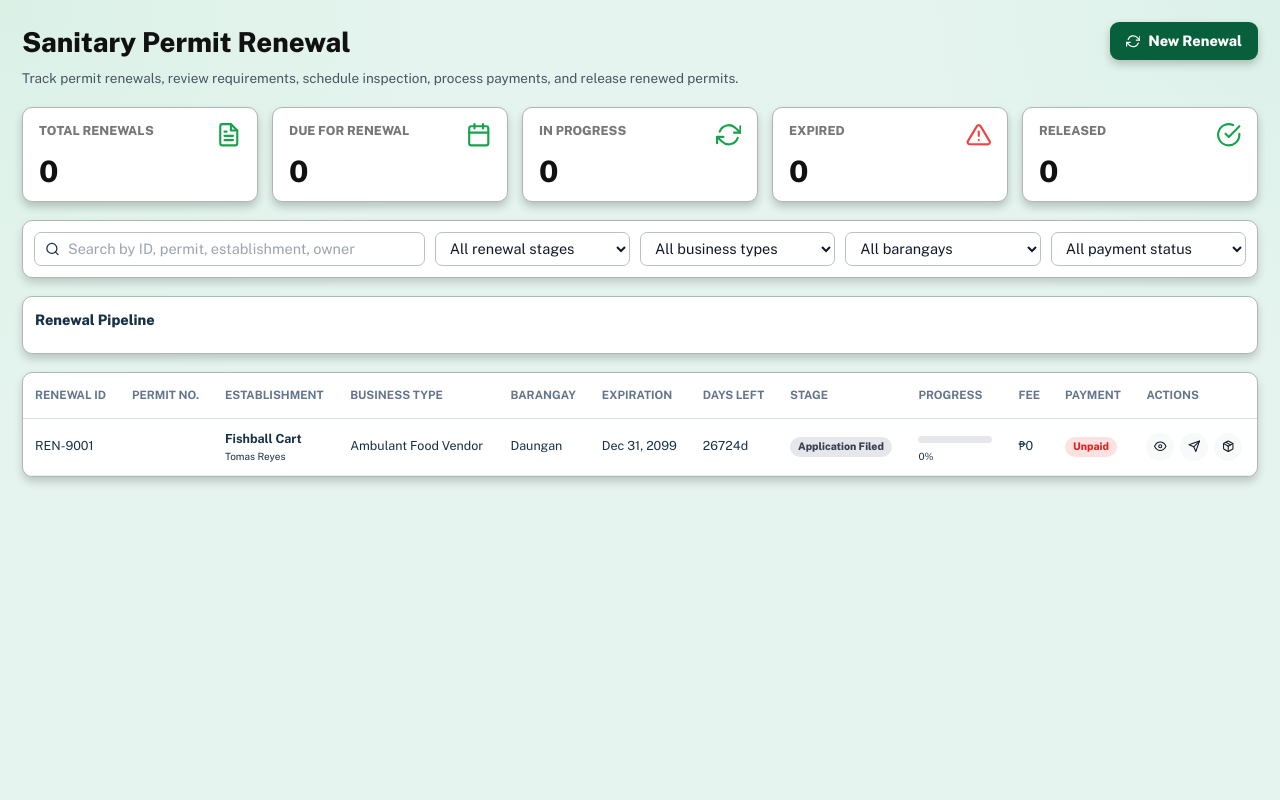
Test case: New Renewal form › asks for an establishment before one is chosen, without a generic list
Click the button "New Renewal": (1184, 41) top-left (1110, 22), bottom-right (1258, 60)
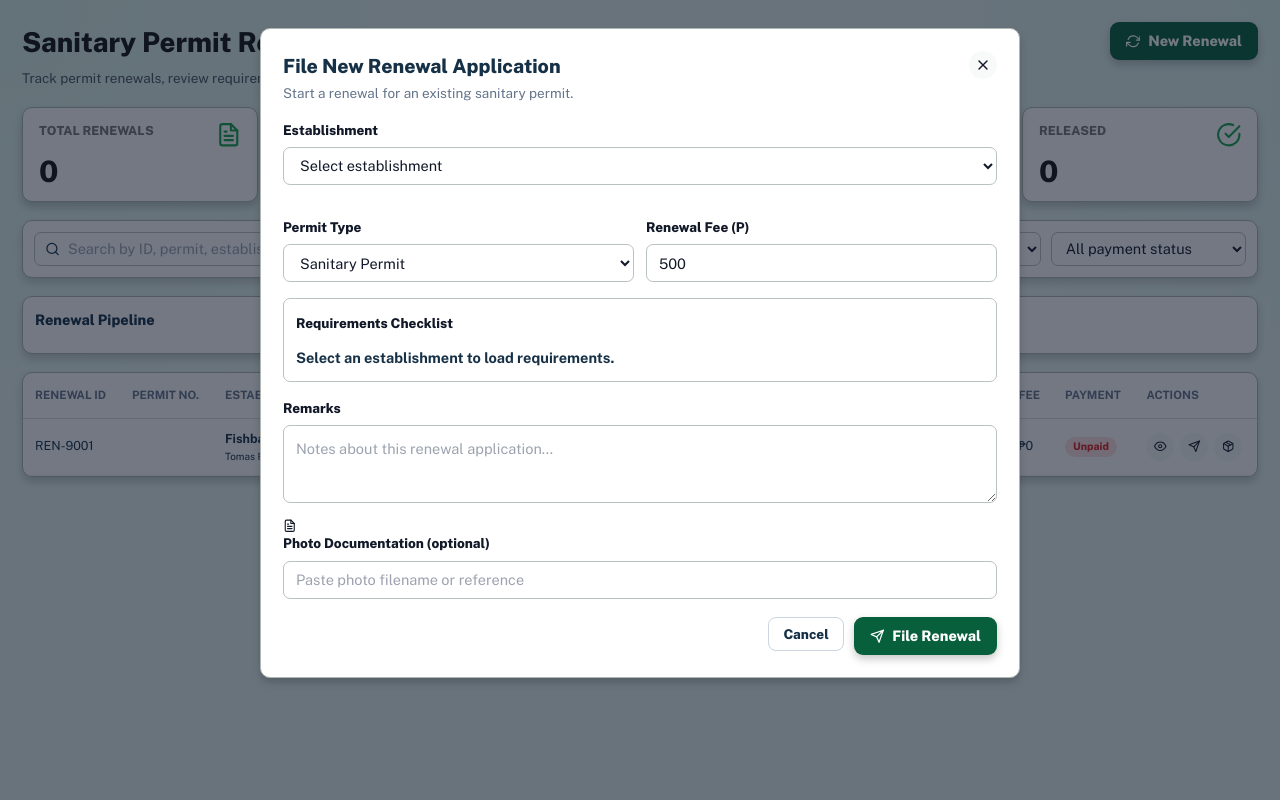
Expected: the text "Select an establishment to load requirements." is shown, top-left (296, 347), bottom-right (631, 369)
